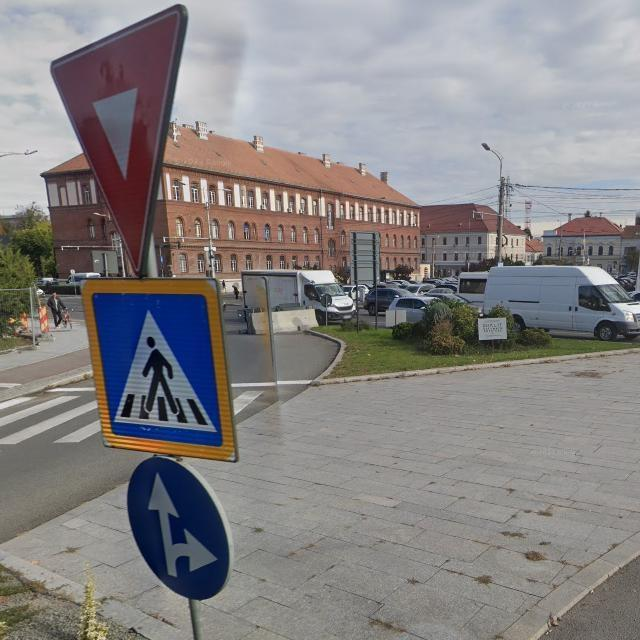info_crosswalk: (77, 274, 239, 461)
prio_give_way: (50, 5, 187, 276)
